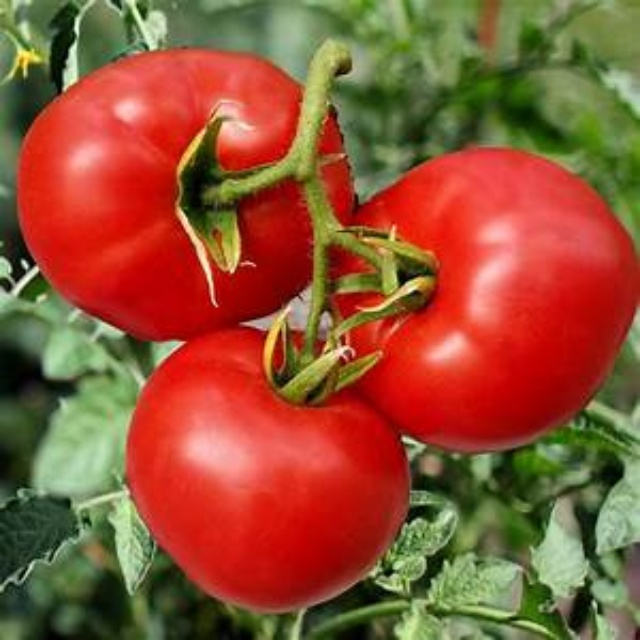tomato: (25, 48, 350, 342), (331, 143, 636, 455), (123, 332, 394, 609)
